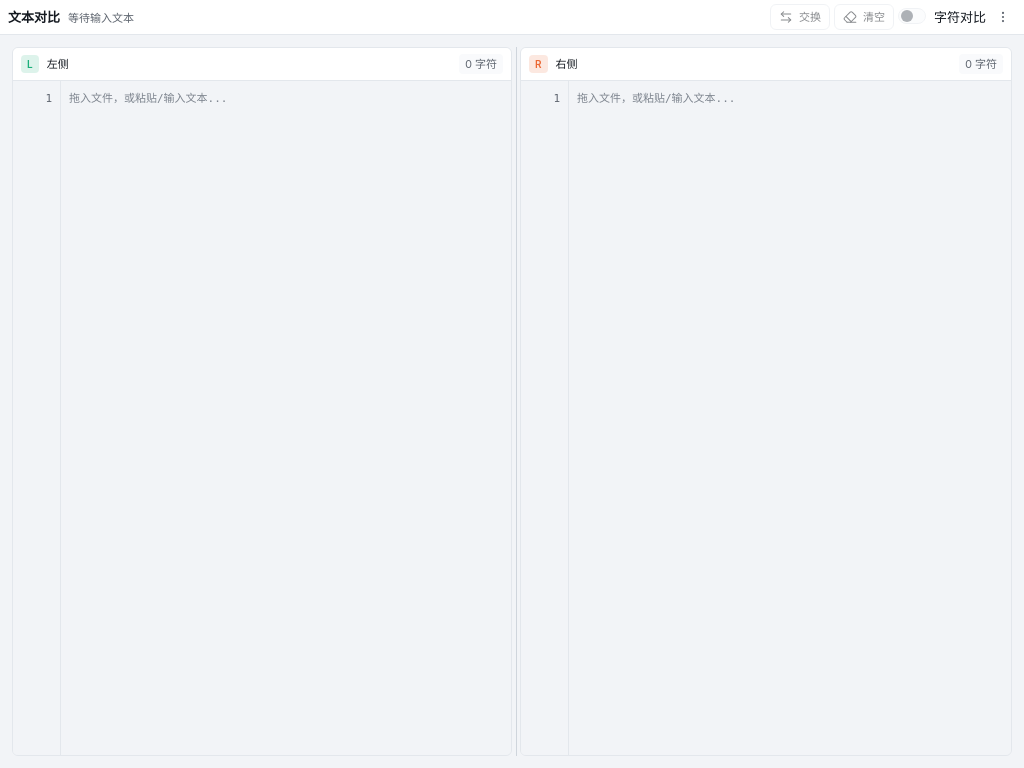
TextComparePage 工具栏（§4.5） › 没有对比结果时手动对齐不可用，有结果后可用
Click the button named "更多操作".
click(1003, 17)  # box top-left (990, 4), bottom-right (1016, 30)
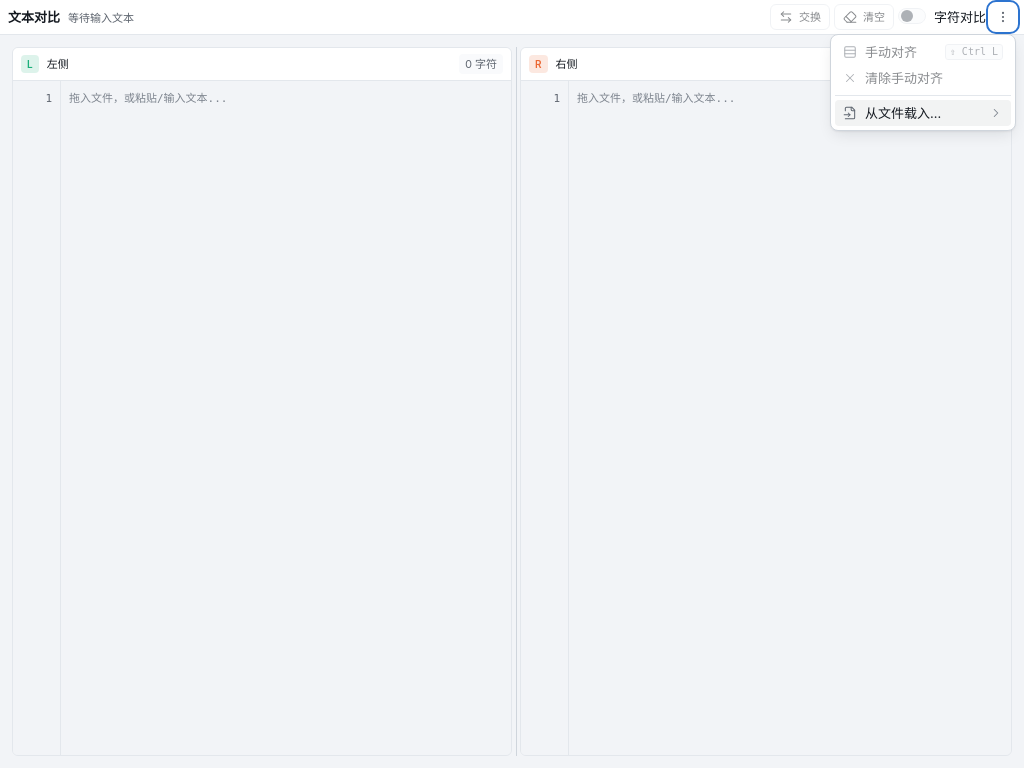
Expected: the menu is shown, top-left (835, 39), bottom-right (1011, 126)
Press Escape
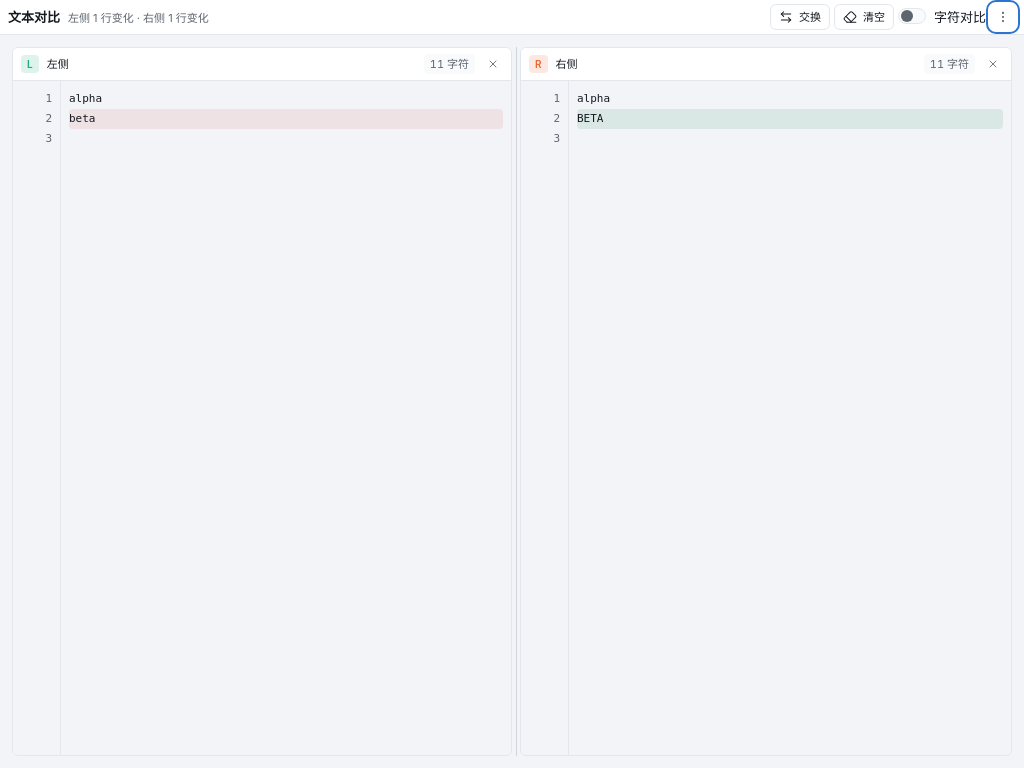
Click the button named "更多操作".
click(1003, 17)  # box top-left (990, 4), bottom-right (1016, 30)
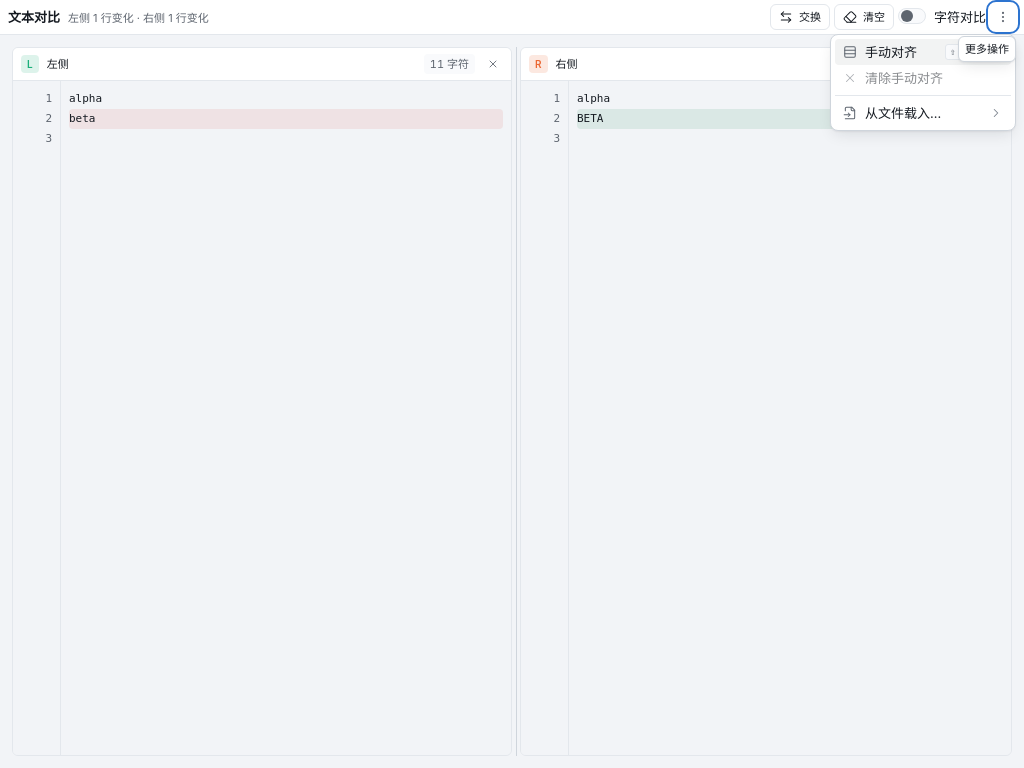
Expected: the menu is shown, top-left (835, 39), bottom-right (1011, 126)
